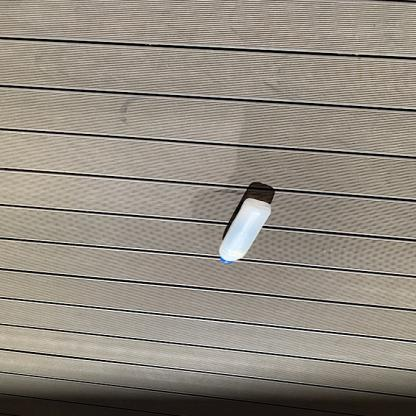trash: (214, 194, 276, 265)
